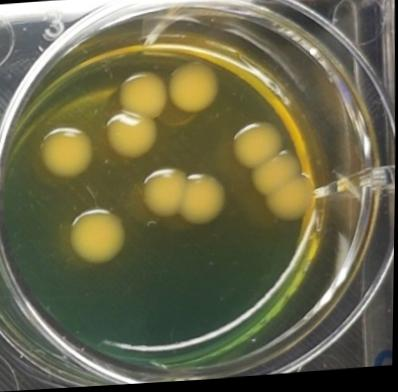valgino: (251, 152, 319, 229), (65, 199, 130, 267), (36, 122, 99, 185), (161, 58, 222, 118), (175, 171, 229, 230), (103, 107, 159, 163), (116, 68, 171, 124), (229, 120, 282, 173), (137, 168, 182, 224)
